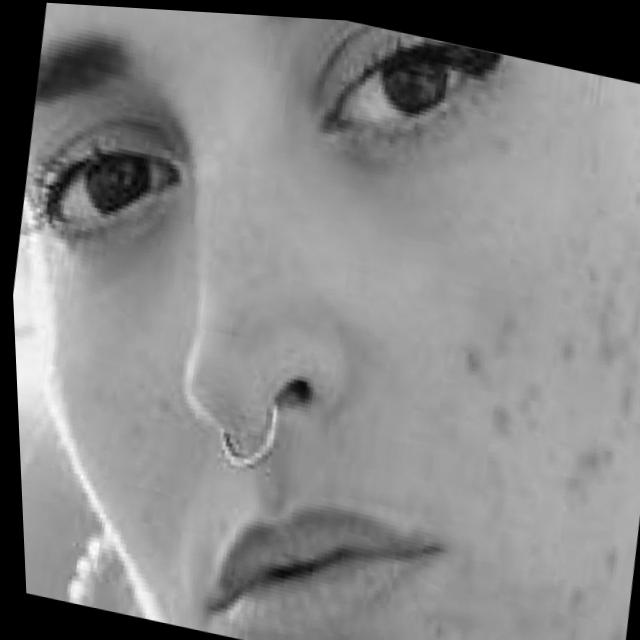Acne: (401, 133, 640, 640)
